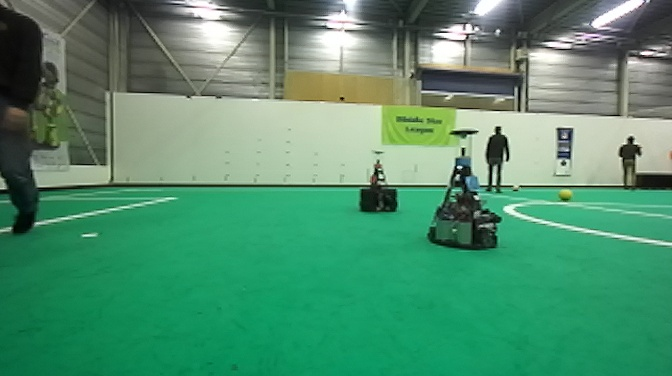ball: (558, 186, 573, 202), (510, 182, 521, 192)
human: (1, 1, 44, 234), (480, 124, 511, 194), (617, 132, 643, 192)
robot: (425, 129, 503, 253), (358, 150, 399, 214)
